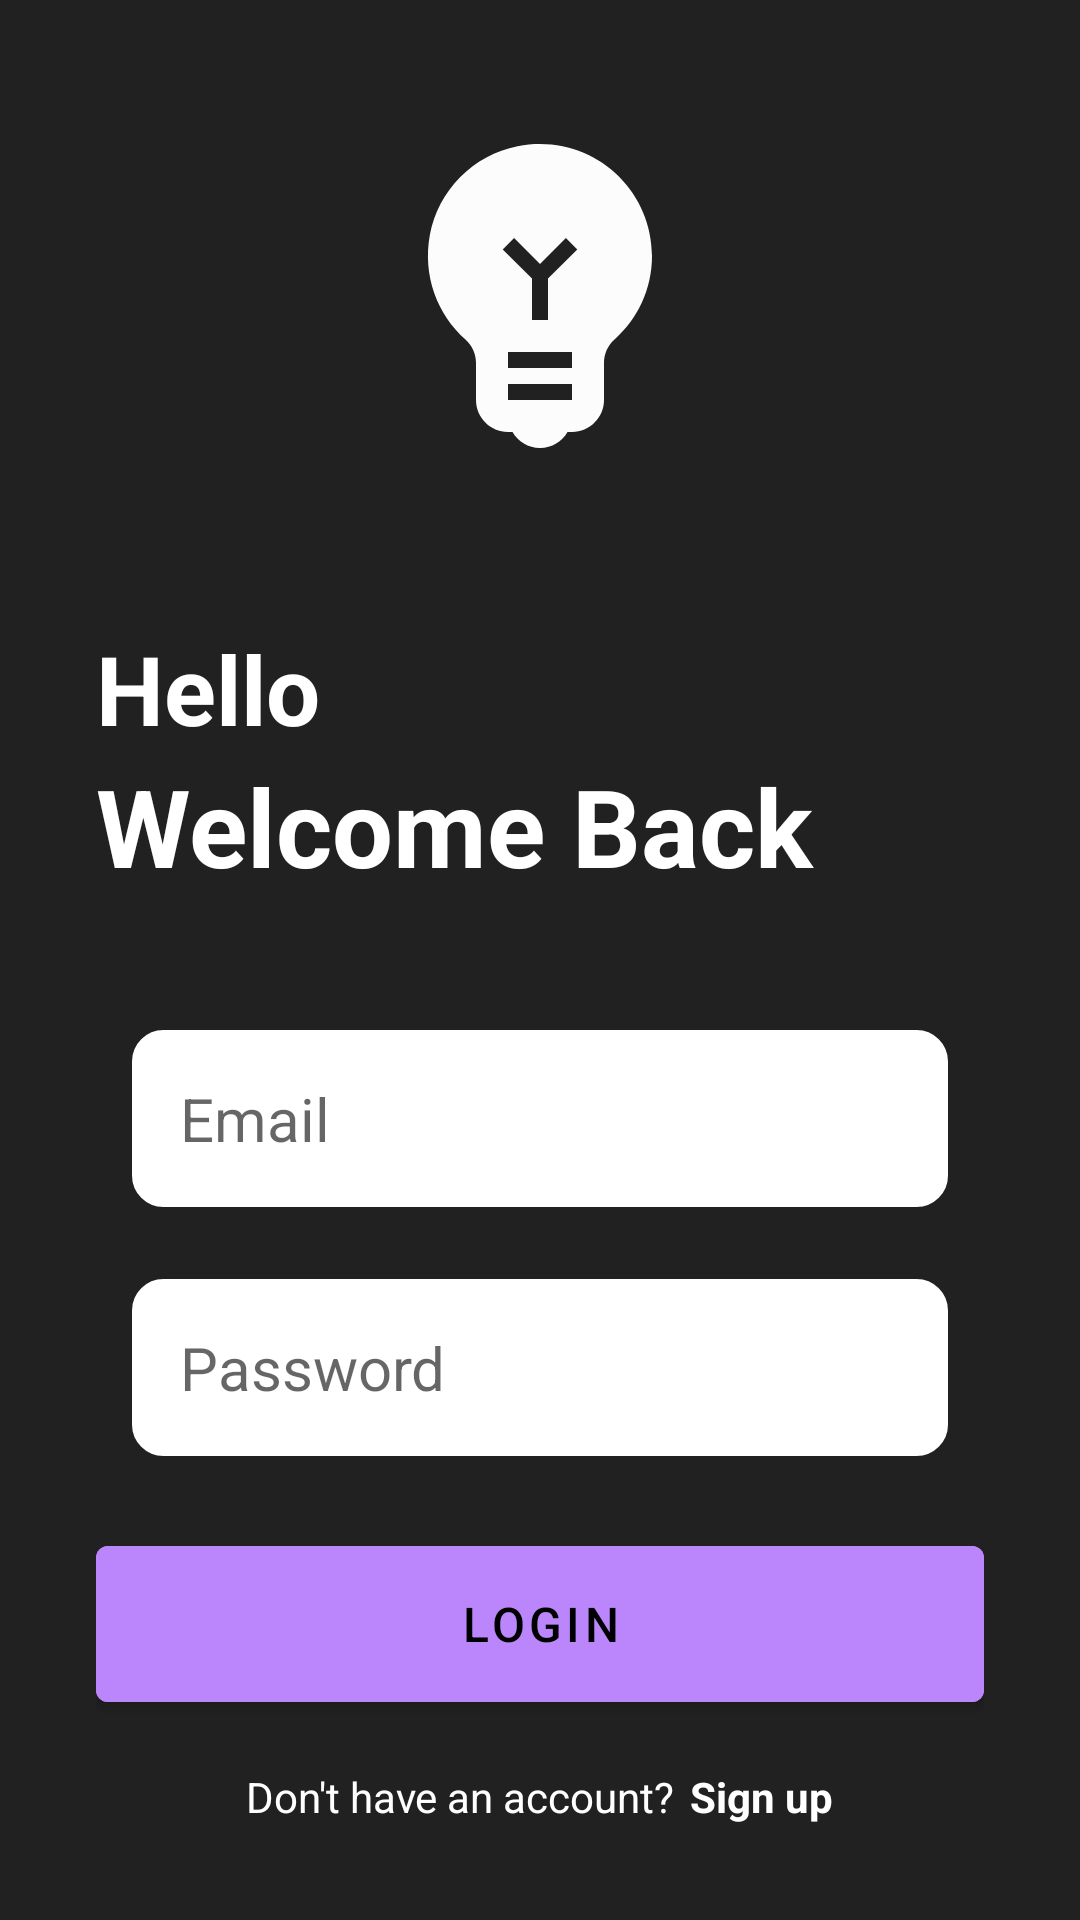

Icons on this 1080px x 1920px Android screen, each with its box as (x1, y1, x2, y2):
emoji objects: (428, 144, 652, 448)
